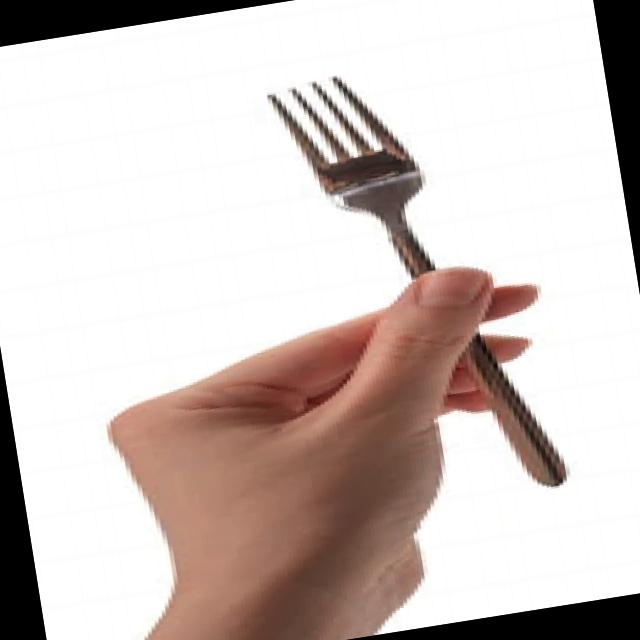fork: (258, 50, 574, 525)
